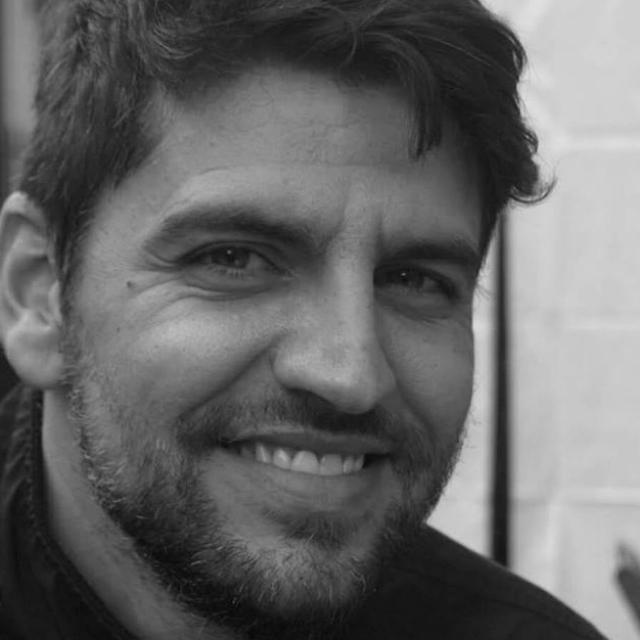Normal: (73, 63, 496, 624)
